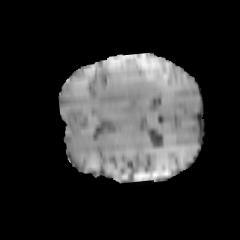glioma: (94, 66, 164, 112)
